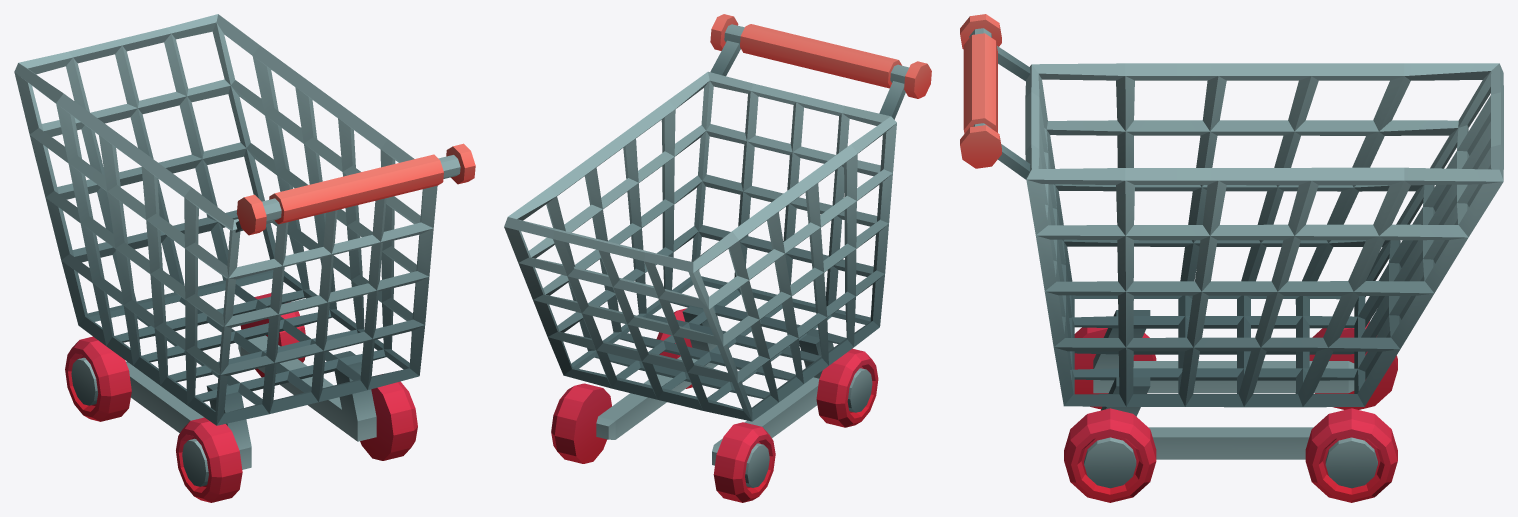
File: ShoppingCart.fbx
3 renders of one model, left to right at view 1: azimuth 30°, elevation 25°; view 2: azimuth 150°, elevation 25°; view 3: azimuth 270°, elevation 25°, orthographic. The views are drawn at different scales.
Parts seen in each view (by area): view 1: Cube; view 2: Cube; view 3: Cube.
Boxes of the visible parts, left/top/right/bottom form: Cube: left=14, top=14, right=475, bottom=502; Cube: left=504, top=14, right=931, bottom=502; Cube: left=960, top=14, right=1503, bottom=502.
Bounding box in the file's own units: 224 × 339 × 440.
